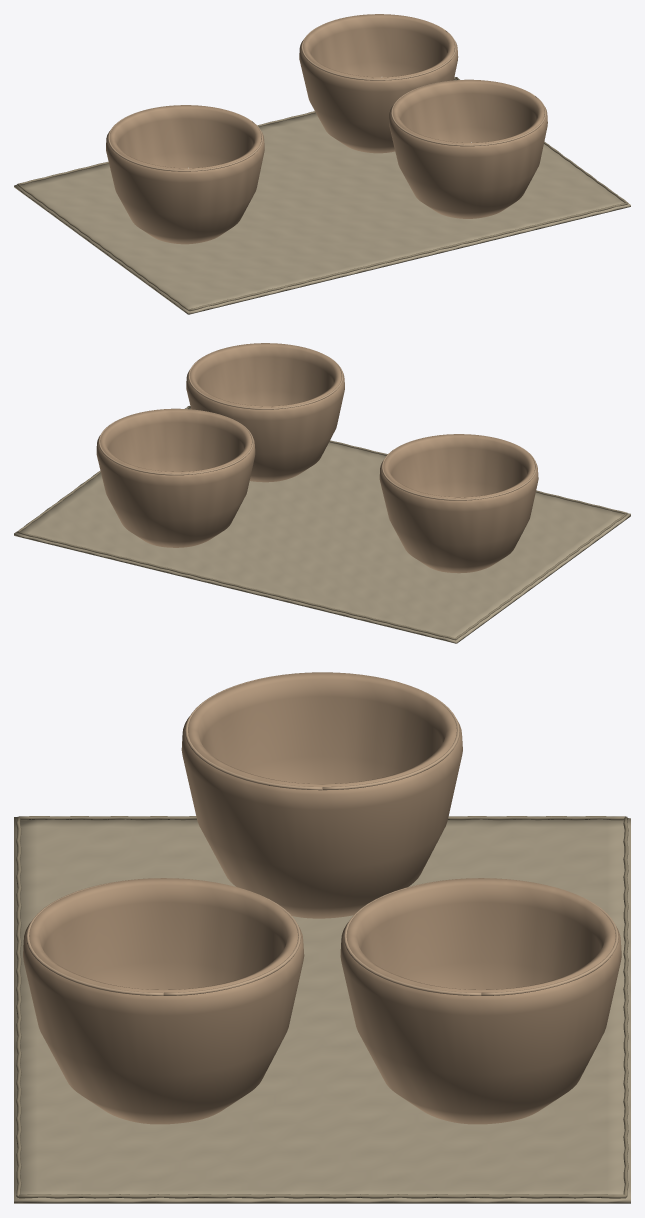
The model's file is sinai-manna.glb.
The picture shows the model from 3 angles, top to bottom: view 1: azimuth 30°, elevation 25°; view 2: azimuth 150°, elevation 25°; view 3: azimuth 270°, elevation 25°; orthographic projection. The views are drawn at different scales.
Visible parts, largest first — view 1: sinai-manna-sinai-plain-display-fibre, sinai-manna-sinai-ordinary-unglazed-earthenware, sinai-manna-sinai-ordinary-unglazed-earthenware.002, sinai-manna-sinai-ordinary-unglazed-earthenware.001, sinai-manna-sinai-bound-display-fibre, sinai-manna-sinai-earthenware-rim-tone.001, sinai-manna-sinai-earthenware-rim-tone.002, sinai-manna-sinai-earthenware-rim-tone; view 2: sinai-manna-sinai-plain-display-fibre, sinai-manna-sinai-ordinary-unglazed-earthenware, sinai-manna-sinai-ordinary-unglazed-earthenware.001, sinai-manna-sinai-ordinary-unglazed-earthenware.002, sinai-manna-sinai-bound-display-fibre, sinai-manna-sinai-earthenware-rim-tone.001, sinai-manna-sinai-earthenware-rim-tone.002, sinai-manna-sinai-earthenware-rim-tone; view 3: sinai-manna-sinai-plain-display-fibre, sinai-manna-sinai-ordinary-unglazed-earthenware.001, sinai-manna-sinai-ordinary-unglazed-earthenware.002, sinai-manna-sinai-ordinary-unglazed-earthenware, sinai-manna-sinai-bound-display-fibre, sinai-manna-sinai-earthenware-rim-tone.001, sinai-manna-sinai-earthenware-rim-tone, sinai-manna-sinai-earthenware-rim-tone.002.
Part boxes in pixels (box(x1,y1,x2,y2)): sinai-manna-sinai-plain-display-fibre: box(14, 77, 630, 314); sinai-manna-sinai-ordinary-unglazed-earthenware: box(106, 105, 264, 244); sinai-manna-sinai-ordinary-unglazed-earthenware.002: box(389, 80, 547, 218); sinai-manna-sinai-ordinary-unglazed-earthenware.001: box(299, 14, 458, 153); sinai-manna-sinai-bound-display-fibre: box(17, 77, 628, 311); sinai-manna-sinai-earthenware-rim-tone.001: box(301, 14, 456, 80); sinai-manna-sinai-earthenware-rim-tone.002: box(391, 79, 546, 146); sinai-manna-sinai-earthenware-rim-tone: box(108, 105, 263, 171); sinai-manna-sinai-plain-display-fibre: box(14, 408, 630, 643); sinai-manna-sinai-ordinary-unglazed-earthenware: box(379, 434, 538, 573); sinai-manna-sinai-ordinary-unglazed-earthenware.001: box(96, 409, 255, 547); sinai-manna-sinai-ordinary-unglazed-earthenware.002: box(186, 343, 344, 482); sinai-manna-sinai-bound-display-fibre: box(17, 406, 627, 640); sinai-manna-sinai-earthenware-rim-tone.001: box(98, 408, 253, 475); sinai-manna-sinai-earthenware-rim-tone.002: box(188, 343, 343, 409); sinai-manna-sinai-earthenware-rim-tone: box(381, 434, 536, 500); sinai-manna-sinai-plain-display-fibre: box(14, 817, 630, 1203); sinai-manna-sinai-ordinary-unglazed-earthenware.001: box(340, 878, 621, 1124); sinai-manna-sinai-ordinary-unglazed-earthenware.002: box(23, 878, 304, 1124); sinai-manna-sinai-ordinary-unglazed-earthenware: box(181, 672, 462, 918); sinai-manna-sinai-bound-display-fibre: box(16, 816, 628, 1198); sinai-manna-sinai-earthenware-rim-tone.001: box(343, 878, 618, 995); sinai-manna-sinai-earthenware-rim-tone: box(185, 672, 459, 790); sinai-manna-sinai-earthenware-rim-tone.002: box(26, 878, 301, 995).
Bounding box in the file's own units: 1.1 × 0.2226 × 0.75.
